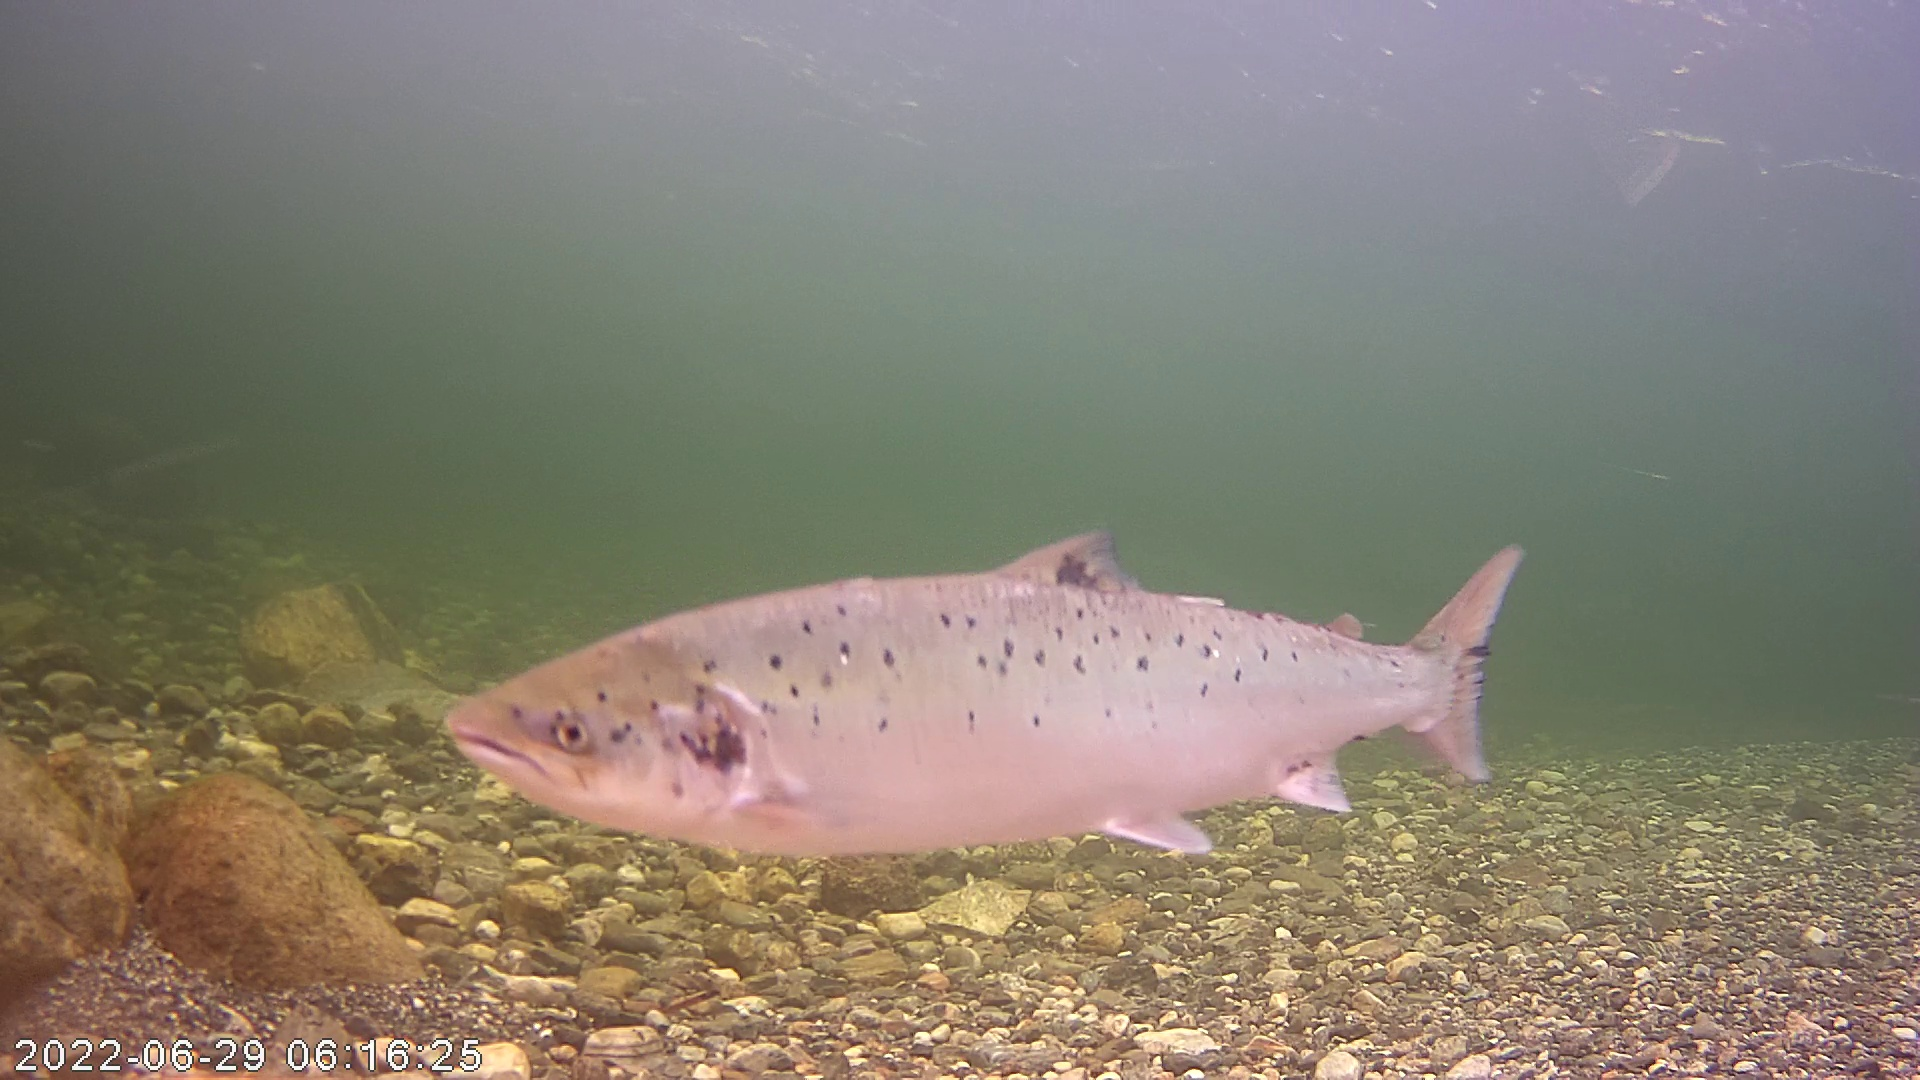salmon: (429, 433, 1518, 858)
